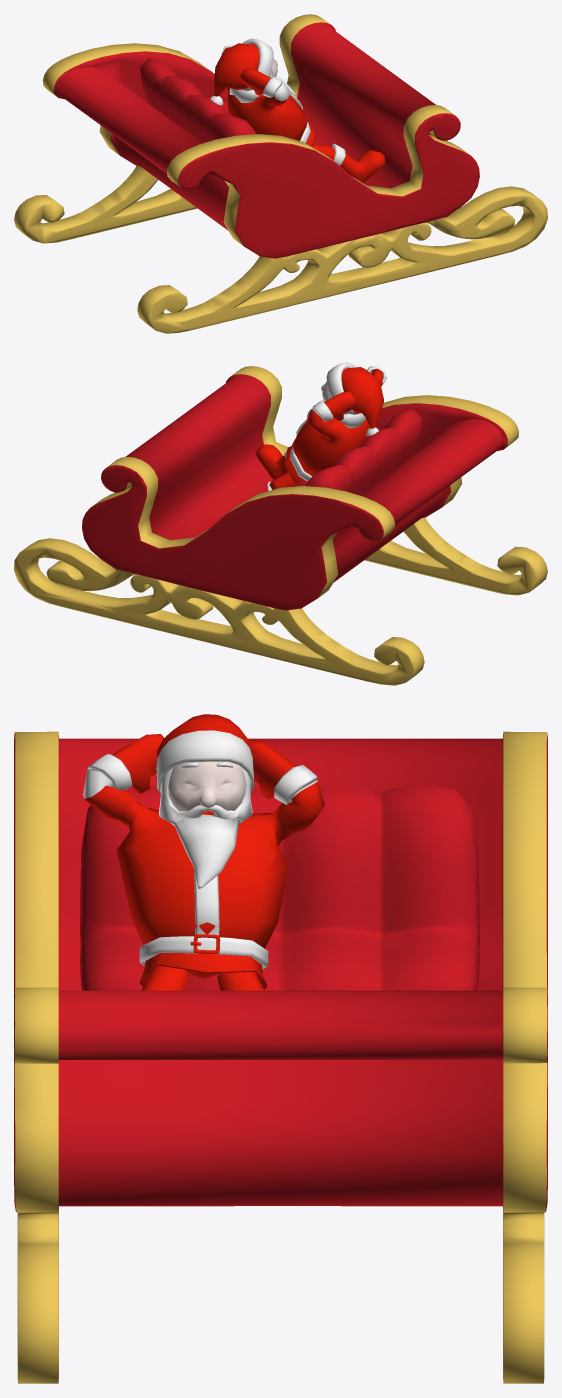
File: Sleigh.glb
3 views of the same model, one above another, from view 1: azimuth 30°, elevation 25°; view 2: azimuth 150°, elevation 25°; view 3: azimuth 270°, elevation 25° (orthographic). The views are drawn at different scales.
Visible parts, largest first — view 1: santa_sleigh_ld; view 2: santa_sleigh_ld; view 3: santa_sleigh_ld.
Part boxes in pixels (x1=…): santa_sleigh_ld: x1=14, y1=14, x2=547, y2=333; santa_sleigh_ld: x1=14, y1=362, x2=547, y2=685; santa_sleigh_ld: x1=14, y1=714, x2=547, y2=1383.
Size of what is drawn, in the model's own units: 6.64 by 3.6 by 3.9.
